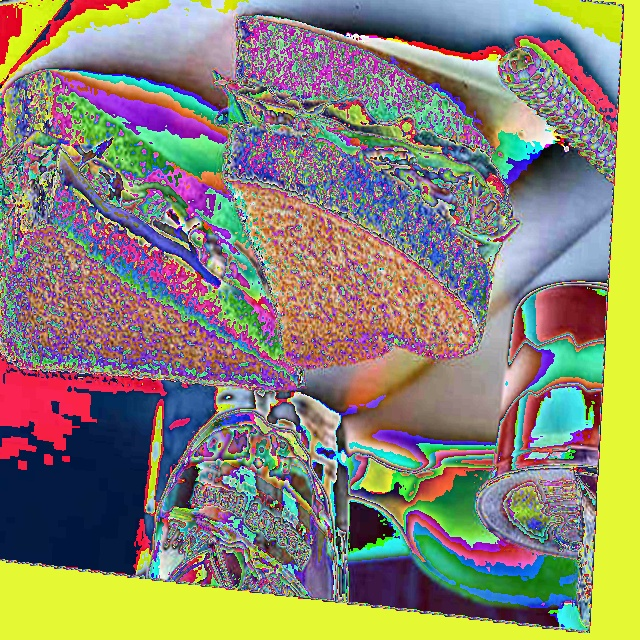background: (0, 17, 521, 393), (259, 286, 607, 611)
